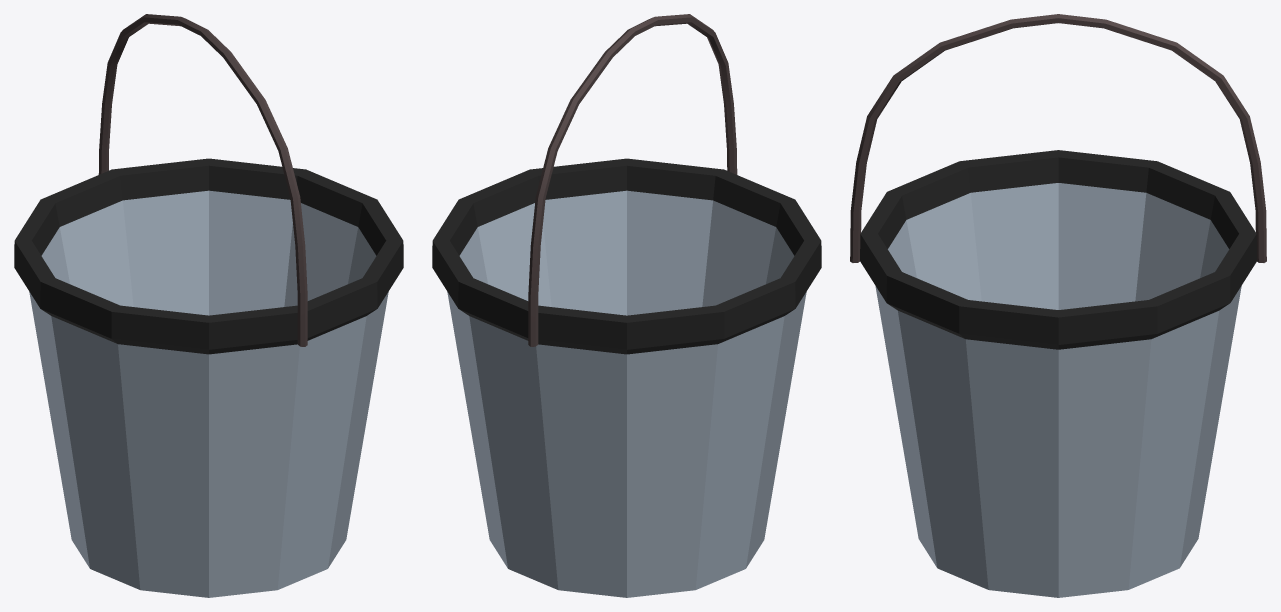
The model's file is SM_bucket_02.fbx.
3 renders of one model, left to right at view 1: azimuth 30°, elevation 25°; view 2: azimuth 150°, elevation 25°; view 3: azimuth 270°, elevation 25°, orthographic.
Visible parts, largest first — view 1: bucket_02; view 2: bucket_02; view 3: bucket_02.
Part boxes in pixels (left/top/right/bottom): bucket_02: left=14, top=14, right=403, bottom=597; bucket_02: left=432, top=14, right=821, bottom=597; bucket_02: left=850, top=14, right=1266, bottom=597.
Size of the model in its own units: 83.3 by 121 by 87.43.
